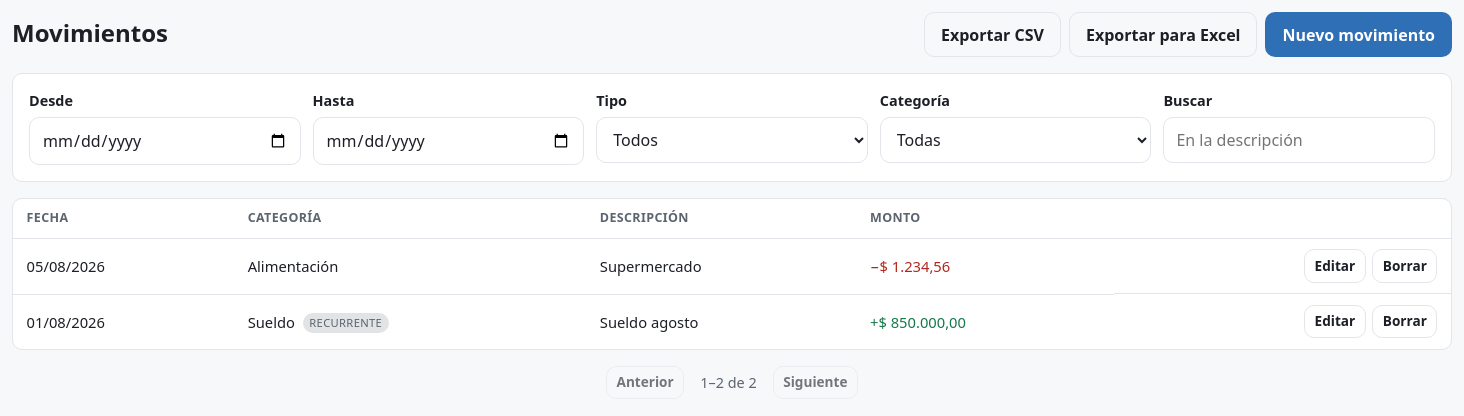
TransactionsPage › filtra por tipo
Check: the text "Supermercado" is shown, box [586,239,856,294]
Select "Ingresos" in the dropdown labelled "Tipo" at x=732, y=140, box [596,117,868,163]
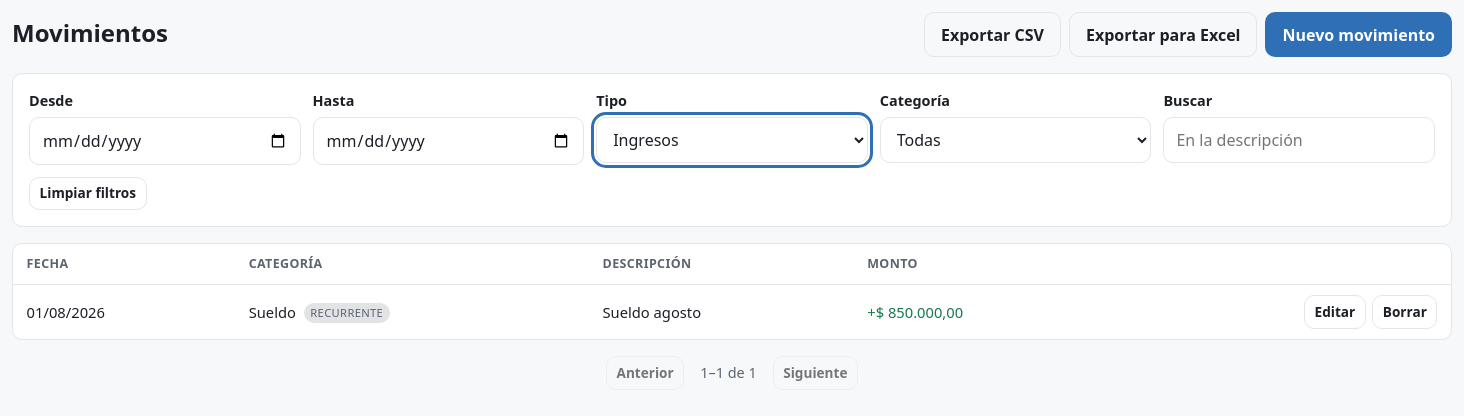
Check: the text "Sueldo agosto" is shown, box [589,285,854,339]
Check: the text "Supermercado" is gone
